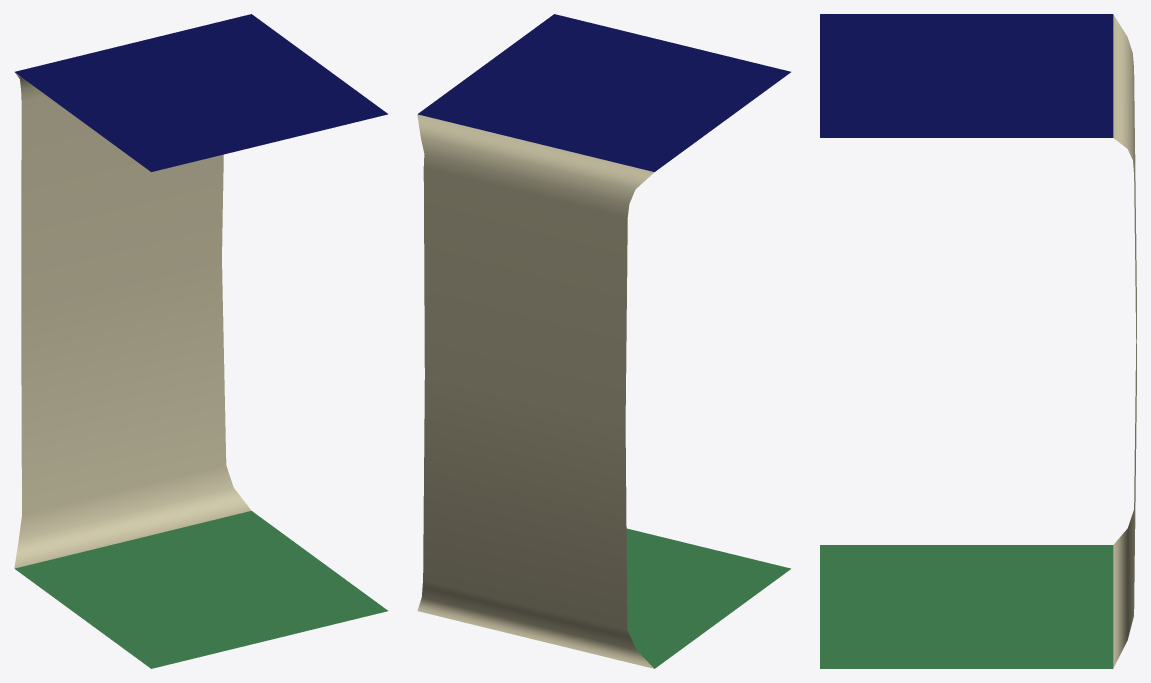
Rendered from ModuleSC_col_03.FBX.
3 views of the same model, side by side, from view 1: azimuth 30°, elevation 25°; view 2: azimuth 150°, elevation 25°; view 3: azimuth 270°, elevation 25° (orthographic). The views are drawn at different scales.
Parts seen in each view (by area): view 1: ModuleSCs_B_wall_015, ModuleSCs_B_floor_016, ModuleSCs_B_roof_017; view 2: ModuleSCs_B_wall_015, ModuleSCs_B_roof_017, ModuleSCs_B_floor_016; view 3: ModuleSCs_B_floor_016, ModuleSCs_B_roof_017, ModuleSCs_B_wall_015.
Part boxes in pixels (<box>): ModuleSCs_B_wall_015: <box>14,72,251,568</box>; ModuleSCs_B_floor_016: <box>15,511,387,668</box>; ModuleSCs_B_roof_017: <box>15,14,387,171</box>; ModuleSCs_B_wall_015: <box>417,114,654,668</box>; ModuleSCs_B_roof_017: <box>418,14,790,171</box>; ModuleSCs_B_floor_016: <box>626,528,790,668</box>; ModuleSCs_B_floor_016: <box>820,545,1113,668</box>; ModuleSCs_B_roof_017: <box>820,14,1113,137</box>; ModuleSCs_B_wall_015: <box>1113,15,1136,667</box>.
Bounding box in the file's own units: 39.37 × 78.74 × 42.55.
